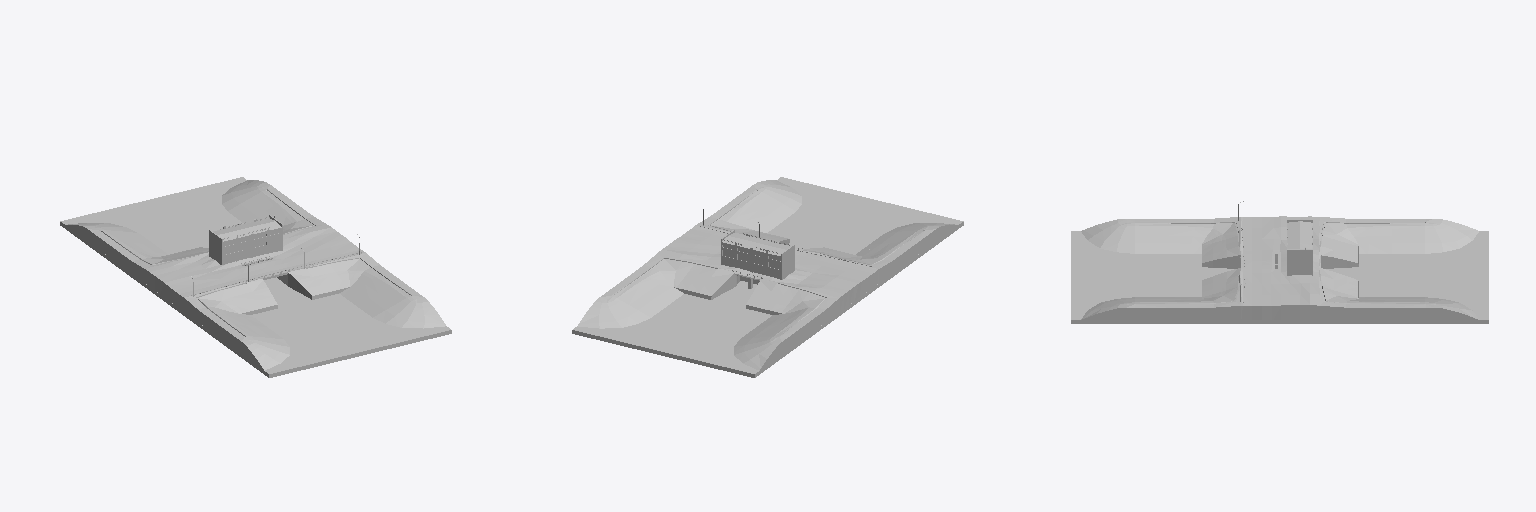
The model's file is dam1.obj.
3 renders of one model, left to right at view 1: azimuth 30°, elevation 25°; view 2: azimuth 150°, elevation 25°; view 3: azimuth 270°, elevation 25°, orthographic.
Parts seen in each view (by area): view 1: Plane, ground., Plane.2, house; view 2: Plane, ground., Plane.2, house; view 3: Plane, ground., Plane.2, house.
Part boxes in pixels (x1,y1,x2,y2): Plane: (66, 180, 445, 370); ground.: (60, 177, 451, 377); Plane.2: (145, 224, 365, 311); house: (209, 215, 282, 264); Plane: (578, 180, 957, 370); ground.: (572, 177, 963, 377); Plane.2: (657, 225, 878, 311); house: (721, 230, 794, 279); Plane: (1081, 217, 1478, 319); ground.: (1071, 231, 1488, 323); Plane.2: (1241, 216, 1320, 319); house: (1287, 220, 1312, 275).
Size of the model in its own units: 82.67 by 20.42 by 164.